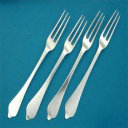fork: (19, 11, 126, 123)
